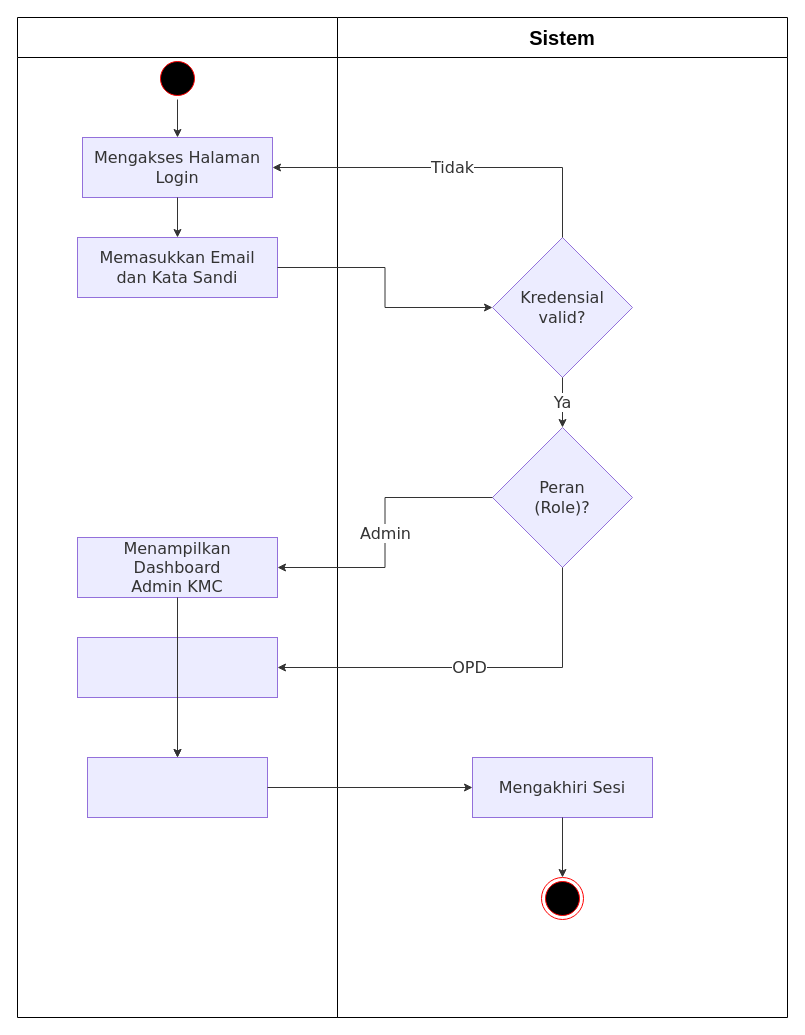
Image size: 805x1035. Some labels were removed from this diagram. The box of each missing label's shape, as (x1, y1, x2, y2) in pixels:
Menampilkan Dashboard OPD: (76, 636, 278, 698)
Menekan Tombol Logout: (86, 756, 268, 818)
Pengguna (Admin/OPD): (16, 16, 338, 1018)
